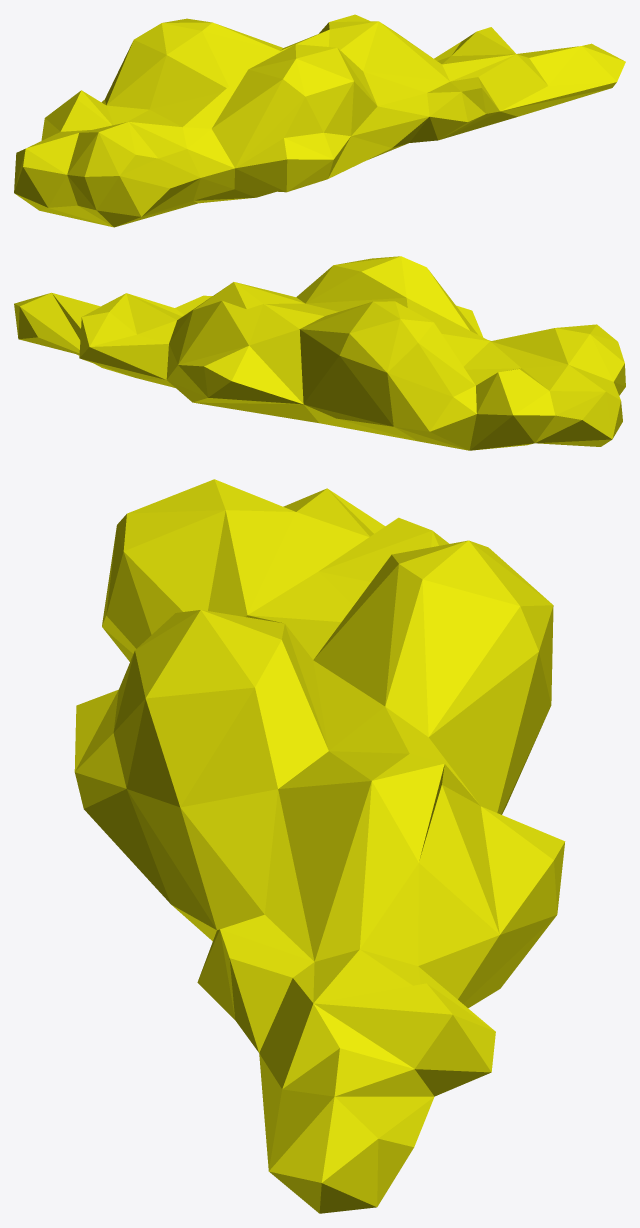
Rendered from SM_Generic_Cloud_02-optimized.glb.
The picture shows the model from 3 angles, top to bottom: view 1: azimuth 30°, elevation 25°; view 2: azimuth 150°, elevation 25°; view 3: azimuth 270°, elevation 25°; orthographic projection. The views are drawn at different scales.
Visible parts, largest first — view 1: SM_Generic_Cloud_02; view 2: SM_Generic_Cloud_02; view 3: SM_Generic_Cloud_02.
Boxes of the visible parts, <box> form: SM_Generic_Cloud_02: <box>14,14,625,227</box>; SM_Generic_Cloud_02: <box>14,256,625,450</box>; SM_Generic_Cloud_02: <box>74,479,565,1213</box>.
Size of the model in its own units: 7.29 by 1.71 by 2.57.
Materials: 1 (1 with a texture image).
